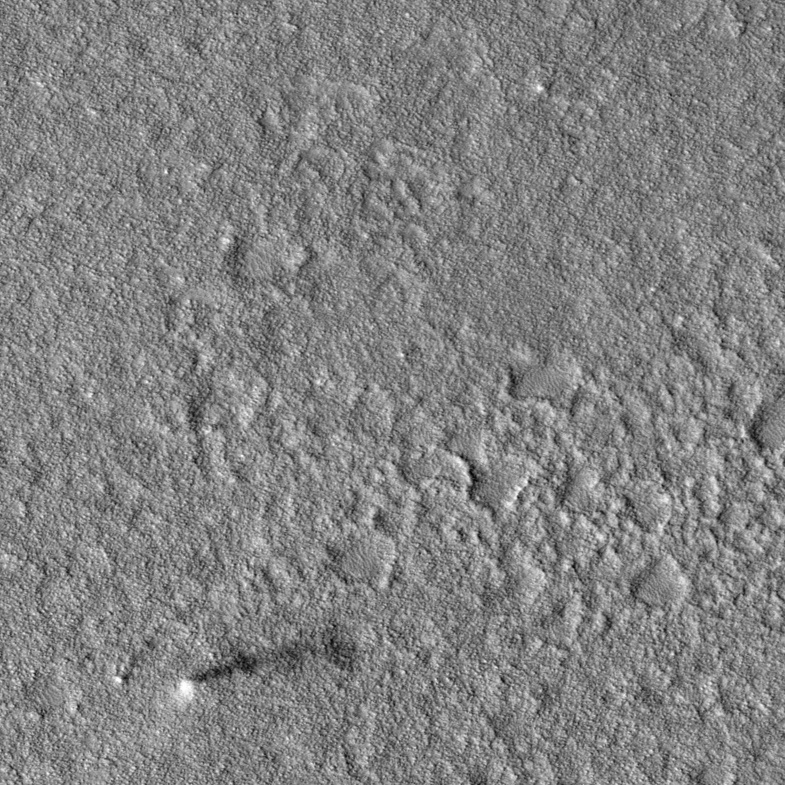dust_devil: (174, 623, 357, 708)
